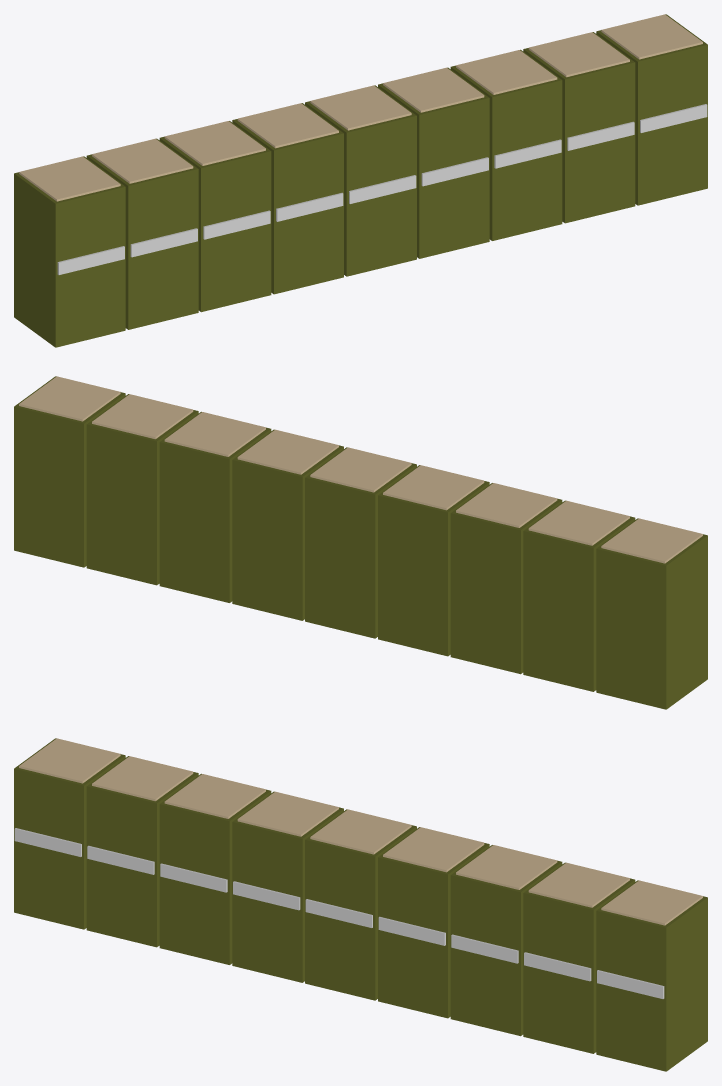
Rendered from SM_MuroHesco_v1_Geotextil_e0_Sano_LOD1.fbx.
The picture shows the model from 3 angles, top to bottom: view 1: azimuth 30°, elevation 25°; view 2: azimuth 150°, elevation 25°; view 3: azimuth 330°, elevation 25°; orthographic projection.
Parts seen in each view (by area): view 1: SM_bloques.muro_hesco_estados_v4_LOD1; view 2: SM_bloques.muro_hesco_estados_v4_LOD1; view 3: SM_bloques.muro_hesco_estados_v4_LOD1.
Part boxes in pixels (x1,y1,x2,y2): SM_bloques.muro_hesco_estados_v4_LOD1: (14,14,707,347); SM_bloques.muro_hesco_estados_v4_LOD1: (14,376,707,709); SM_bloques.muro_hesco_estados_v4_LOD1: (14,738,707,1071).
Size of the model in its own units: 9.96 by 2.13 by 1.13.
